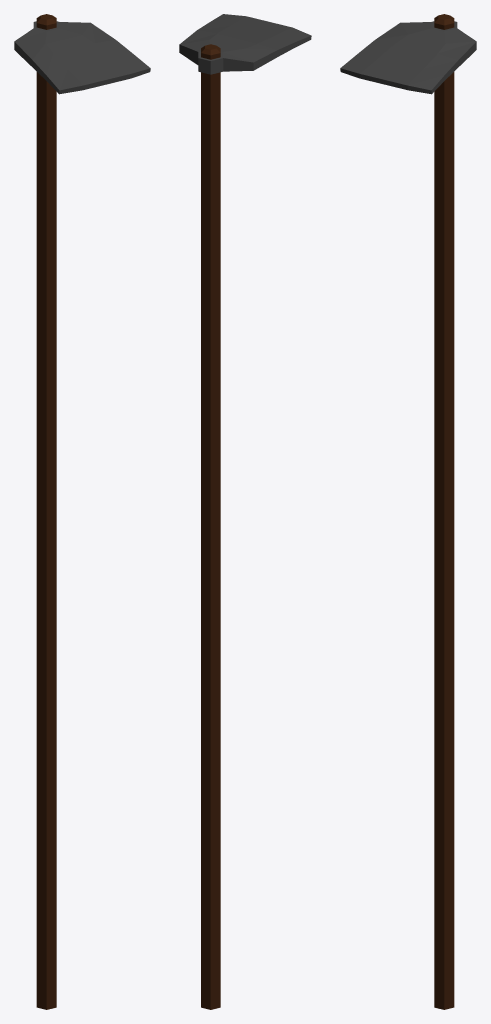
Rendered from Hoe_FBX.fbx.
The picture shows the model from 3 angles, left to right: view 1: azimuth 30°, elevation 25°; view 2: azimuth 150°, elevation 25°; view 3: azimuth 330°, elevation 25°; orthographic projection. The views are drawn at different scales.
Parts seen in each view (by area): view 1: Hoe; view 2: Hoe; view 3: Hoe.
Boxes of the visible parts, x1=… form: Hoe: x1=14, y1=14, x2=150, y2=1009; Hoe: x1=179, y1=14, x2=311, y2=1009; Hoe: x1=340, y1=14, x2=476, y2=1009.
Size of the model in its own units: 13.96 by 145 by 17.79.
